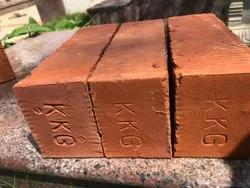brick: (15, 78, 103, 167), (89, 75, 171, 159), (174, 74, 248, 159)
